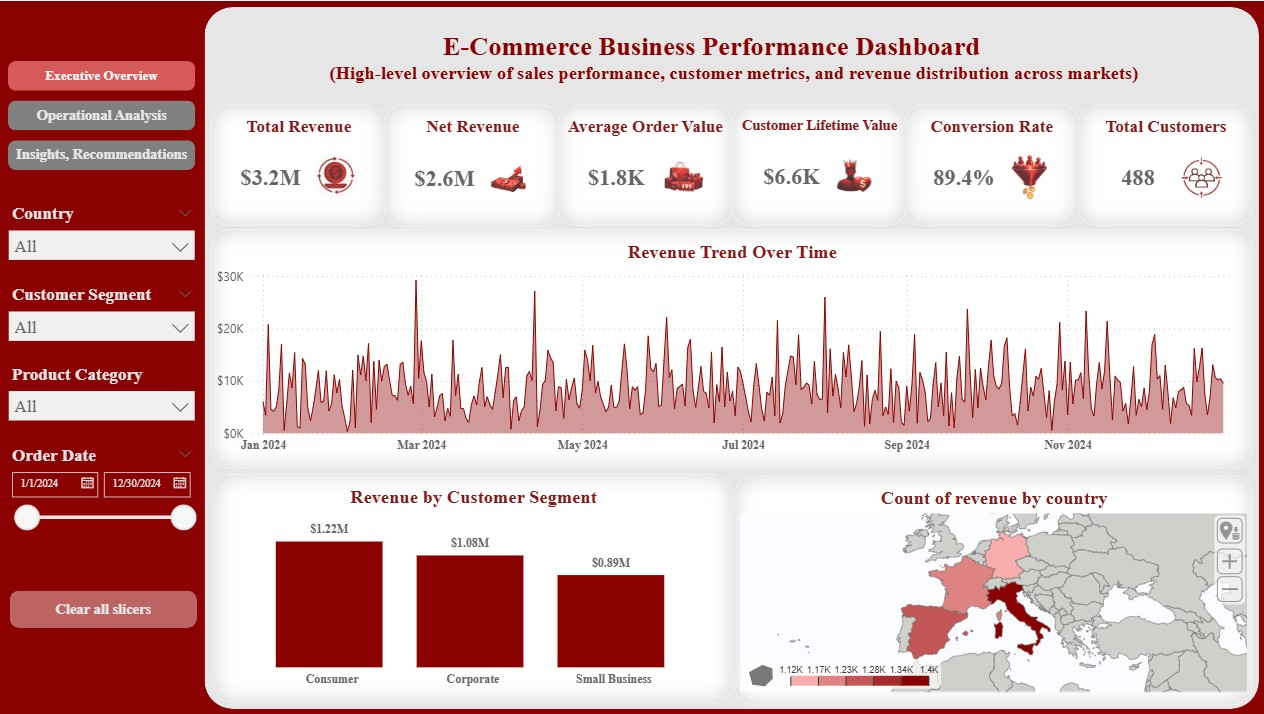

The page's visual inventory and layout, read from the dashboard file:
{"tool":"powerbi","page":{"name":"Executive Overview","canvas":[1280,720],"ordinal":0},"visuals":[{"type":"shape","box":[207.4,6.1,1064.5,708.6],"z":0},{"type":"textbox","box":[218,19.7,1047.8,95.4],"z":1000},{"type":"slicer","fields":{"Values":["Final_Dataset.country"]},"box":[0,199.9,207.4,81.8],"z":2000},{"type":"slicer","fields":{"Values":["Final_Dataset.segment"]},"box":[0,281.6,207.4,80.3],"z":3000},{"type":"cardVisual","title":"Total Revenue ","fields":{"Data":["Measure.Total Revenue"]},"box":[213.5,104.6,177.2,122.7],"z":4000},{"type":"cardVisual","title":"Total Customers","fields":{"Data":["Measure.Customers"]},"box":[1088.7,104.6,177.2,122.7],"z":5000},{"type":"slicer","fields":{"Values":["Final_Dataset.category"]},"box":[0,361.9,207.4,81.8],"z":6000},{"type":"lineChart","title":"Revenue Trend Over Time","fields":{"Y":["Measure.Total Revenue"],"Category":["Final_Dataset.order_date.Variation.Date Hierarchy.Year","Final_Dataset.order_date.Variation.Date Hierarchy.Quarter","Final_Dataset.order_date.Variation.Date Hierarchy.Month","Final_Dataset.order_date.Variation.Date Hierarchy.Day"]},"box":[213.5,230.2,1052.4,242.3],"z":7000},{"type":"columnChart","title":"Revenue by Customer Segment","fields":{"Y":["Measure.Total Revenue"],"Category":["Final_Dataset.segment"]},"box":[216.5,477,523.9,231.7],"z":8000},{"type":"cardVisual","title":"Average Order Value","fields":{"Data":["Measure.Avg Order Value"]},"box":[563.6,104.6,177.2,122.7],"z":9000},{"type":"cardVisual","title":"Conversion Rate","fields":{"Data":["Measure.Conversion Rate"]},"box":[913.7,104.6,177.2,122.7],"z":10000},{"type":"cardVisual","title":"Customer Lifetime Value","fields":{"Data":["Measure.Customer Lifetime Value"]},"box":[738.6,104.6,177.2,122.7],"z":11000},{"type":"actionButton","box":[10.6,595.1,189.3,37.9],"z":12000},{"type":"pageNavigator","box":[9.6,61,189.4,112.4],"z":13000},{"type":"cardVisual","title":"Net Revenue","fields":{"Data":["Measure.Net Revenue"]},"box":[388.5,103.8,177.2,124.2],"z":16000},{"type":"azureMap","fields":{"Category":["Final_Dataset.country"],"Size":["Measure.Total Revenue"]},"box":[742,478.5,523.9,231.7],"z":17000},{"type":"slicer","fields":{"Values":["Final_Dataset.order_date"]},"box":[0,443.7,207.4,151.4],"z":18000}]}

Visuals, with their boxes in screenshot pixels (x1, y1, x2, y2), scaled from the page's 1280x720 canvas onto the 1264x714 screenshot:
shape: locate(205, 6, 1256, 709)
textbox: locate(215, 20, 1250, 114)
slicer - Final_Dataset.country: locate(0, 198, 205, 279)
slicer - Final_Dataset.segment: locate(0, 279, 205, 359)
"Total Revenue " cardVisual: locate(211, 104, 386, 225)
"Total Customers" cardVisual: locate(1075, 104, 1250, 225)
slicer - Final_Dataset.category: locate(0, 359, 205, 440)
"Revenue Trend Over Time" lineChart: locate(211, 228, 1250, 469)
"Revenue by Customer Segment" columnChart: locate(214, 473, 731, 703)
"Average Order Value" cardVisual: locate(557, 104, 732, 225)
"Conversion Rate" cardVisual: locate(902, 104, 1077, 225)
"Customer Lifetime Value" cardVisual: locate(729, 104, 904, 225)
actionButton: locate(10, 590, 197, 628)
pageNavigator: locate(9, 60, 197, 172)
"Net Revenue" cardVisual: locate(384, 103, 559, 226)
azureMap - Final_Dataset.country x Measure.Total Revenue: locate(733, 475, 1250, 704)
slicer - Final_Dataset.order_date: locate(0, 440, 205, 590)
